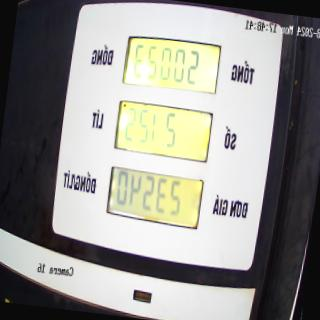screen: (102, 31, 224, 232)
